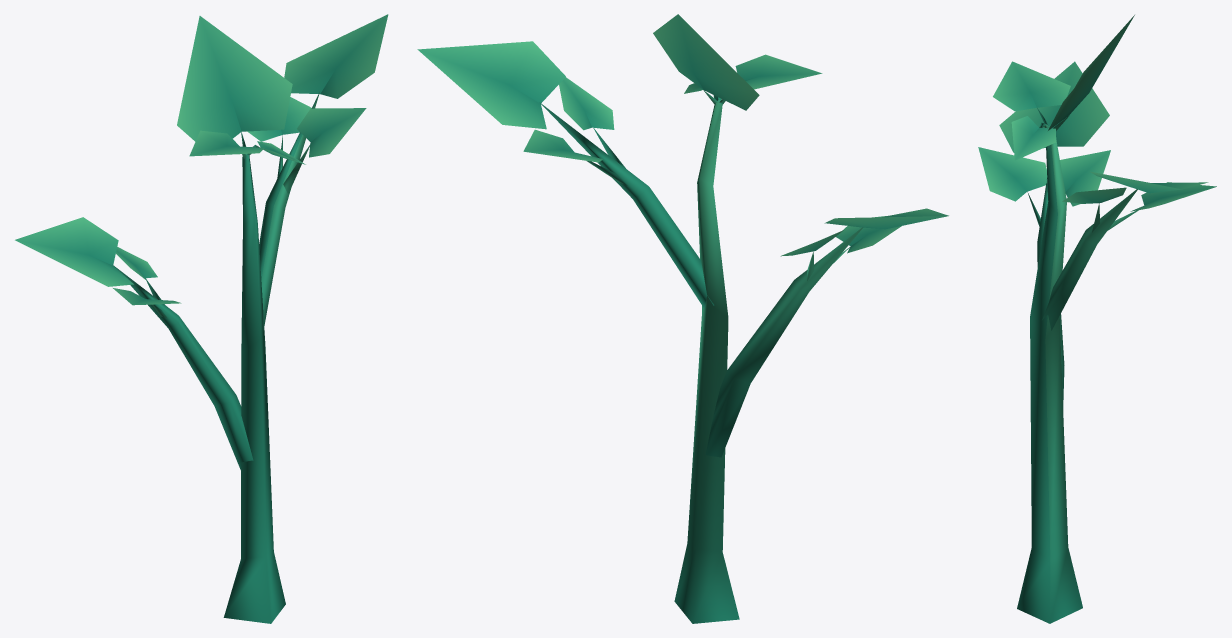
The model's file is PotatoSprout01.glb.
3 renders of one model, left to right at view 1: azimuth 30°, elevation 25°; view 2: azimuth 150°, elevation 25°; view 3: azimuth 270°, elevation 25°, orthographic. The views are drawn at different scales.
Visible parts, largest first — view 1: PotatoSprout01; view 2: PotatoSprout01; view 3: PotatoSprout01.
Boxes of the visible parts, box(x1,y1,x2,y2) form: PotatoSprout01: box(15, 14, 388, 623); PotatoSprout01: box(417, 14, 948, 623); PotatoSprout01: box(978, 15, 1216, 623).
Size of the model in its own units: 0.6413 by 0.8193 by 0.3026.
1 material, 1 textured.
